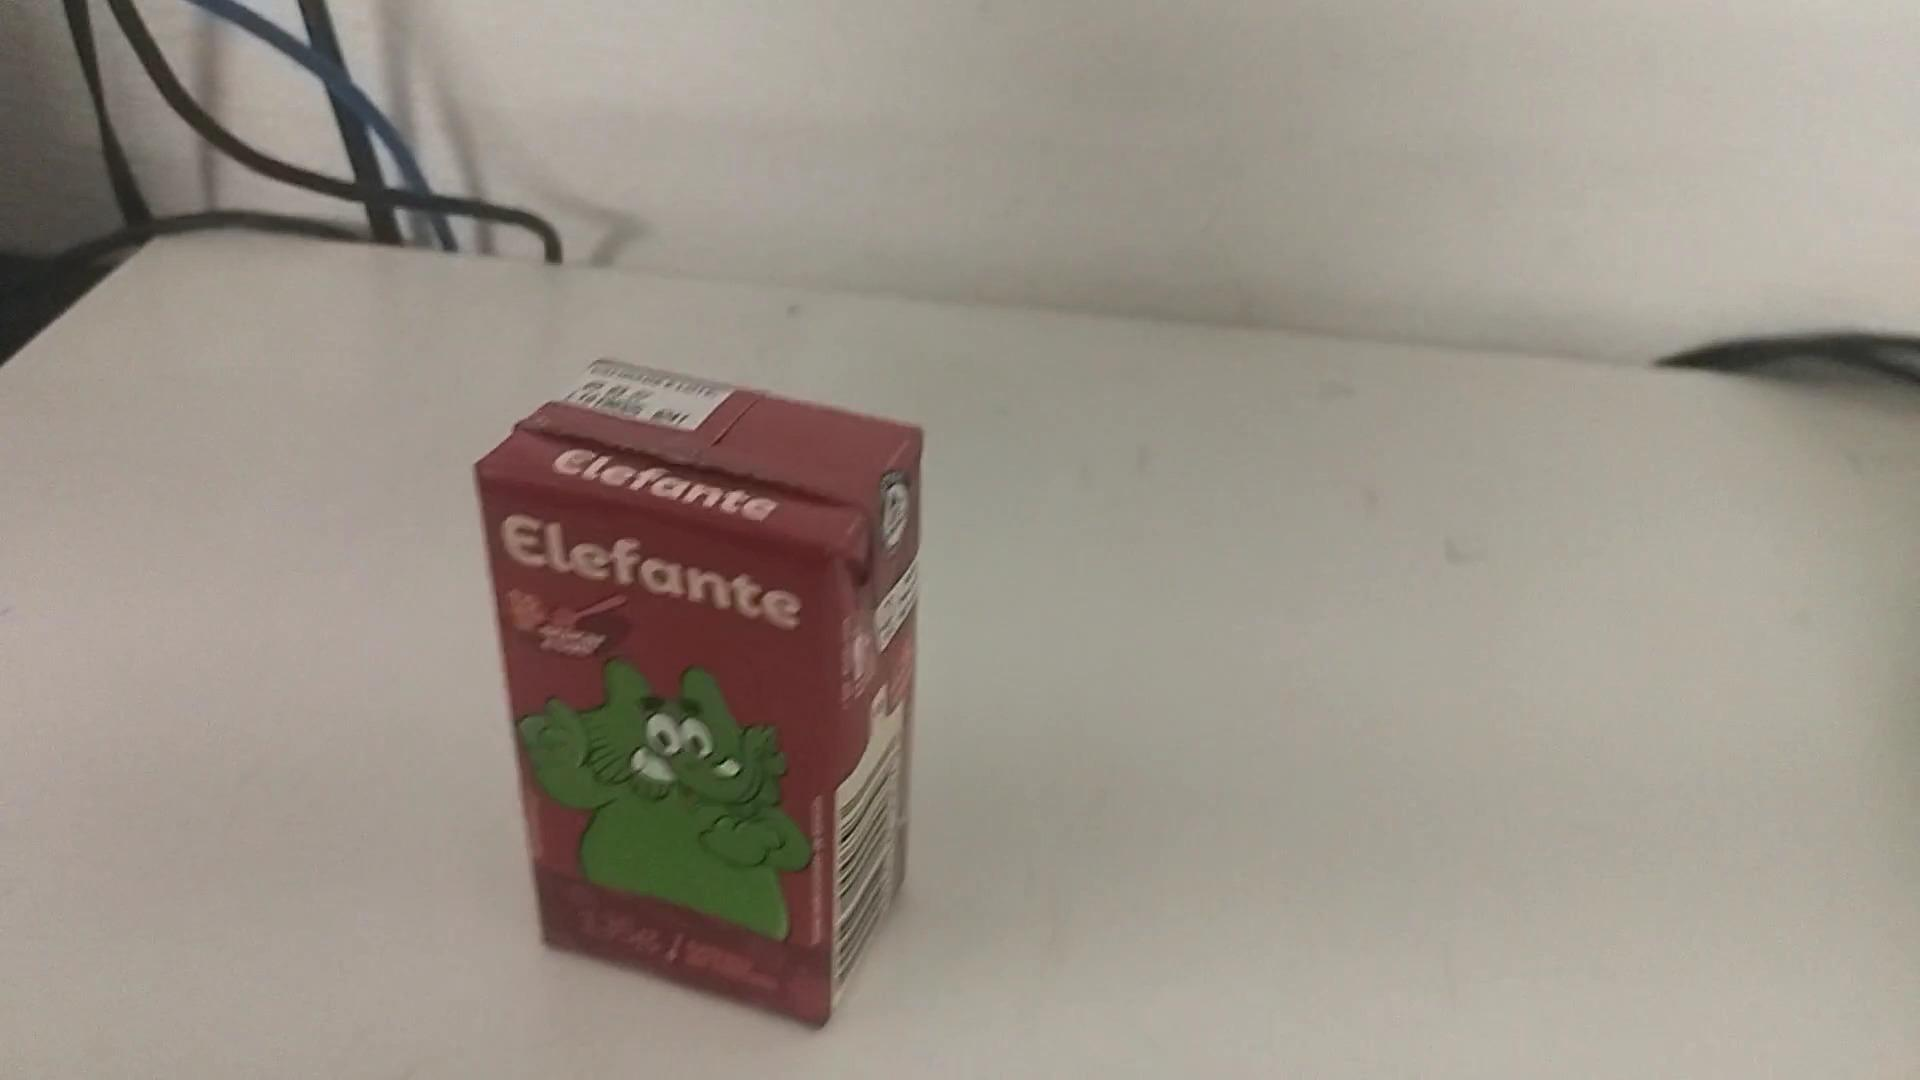tomate: (467, 363, 926, 1029)
